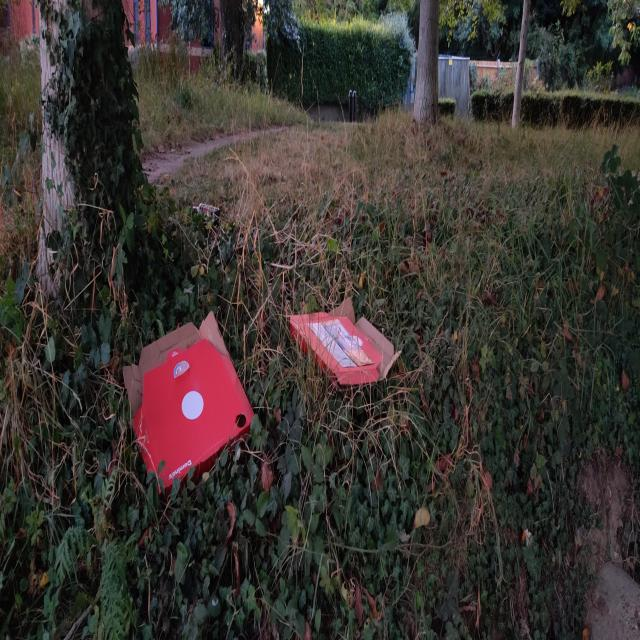litter: (122, 311, 400, 491)
